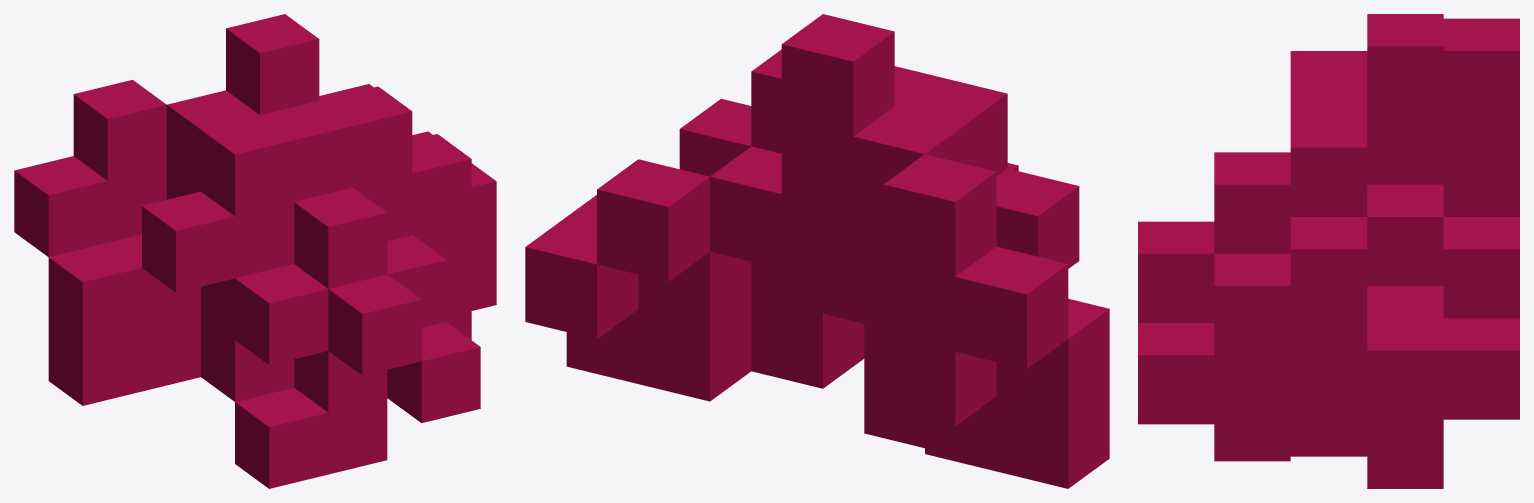
The model's file is luzvermelha-g.obj.
3 views of the same model, side by side, from view 1: azimuth 30°, elevation 25°; view 2: azimuth 150°, elevation 25°; view 3: azimuth 270°, elevation 25° (orthographic). The views are drawn at different scales.
Size of the model in its own units: 0.7 by 0.6 by 0.5.
1 material, 1 textured.
